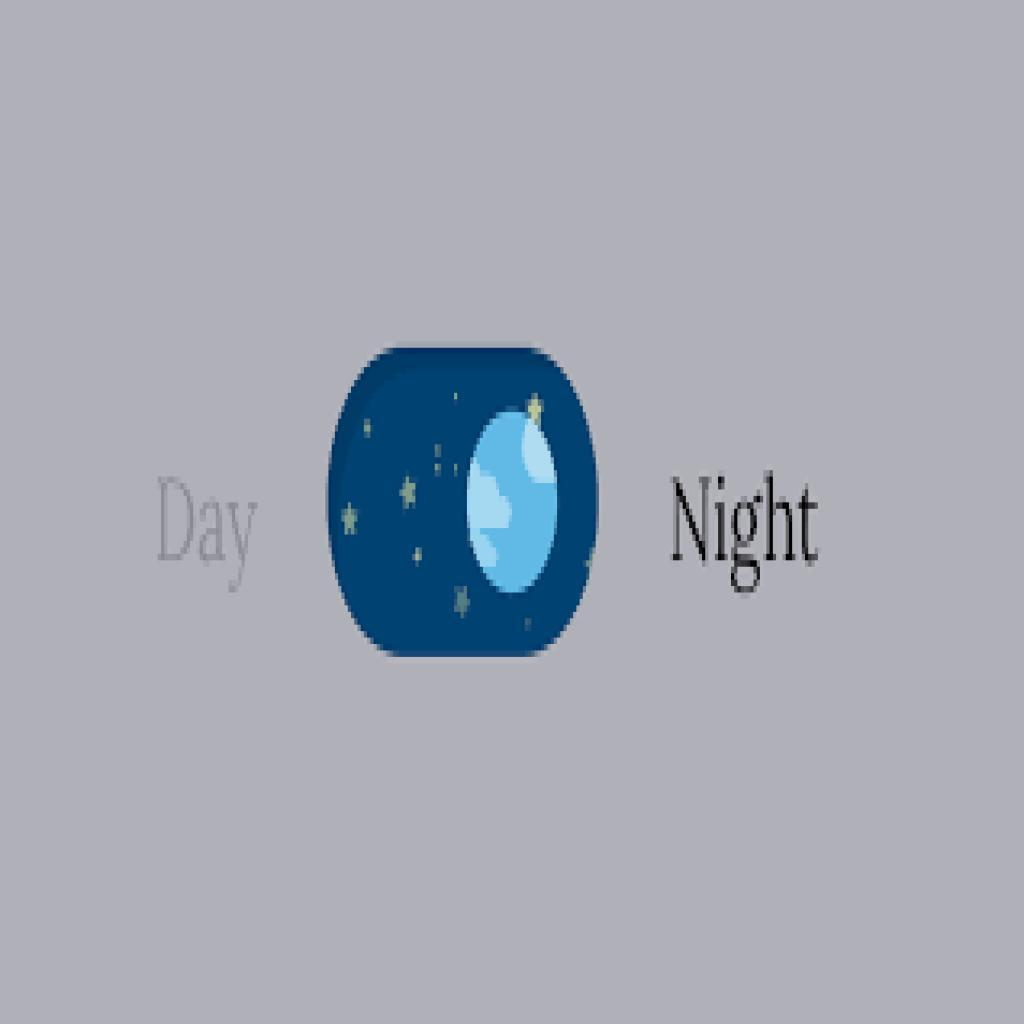switch: (328, 348, 602, 660)
